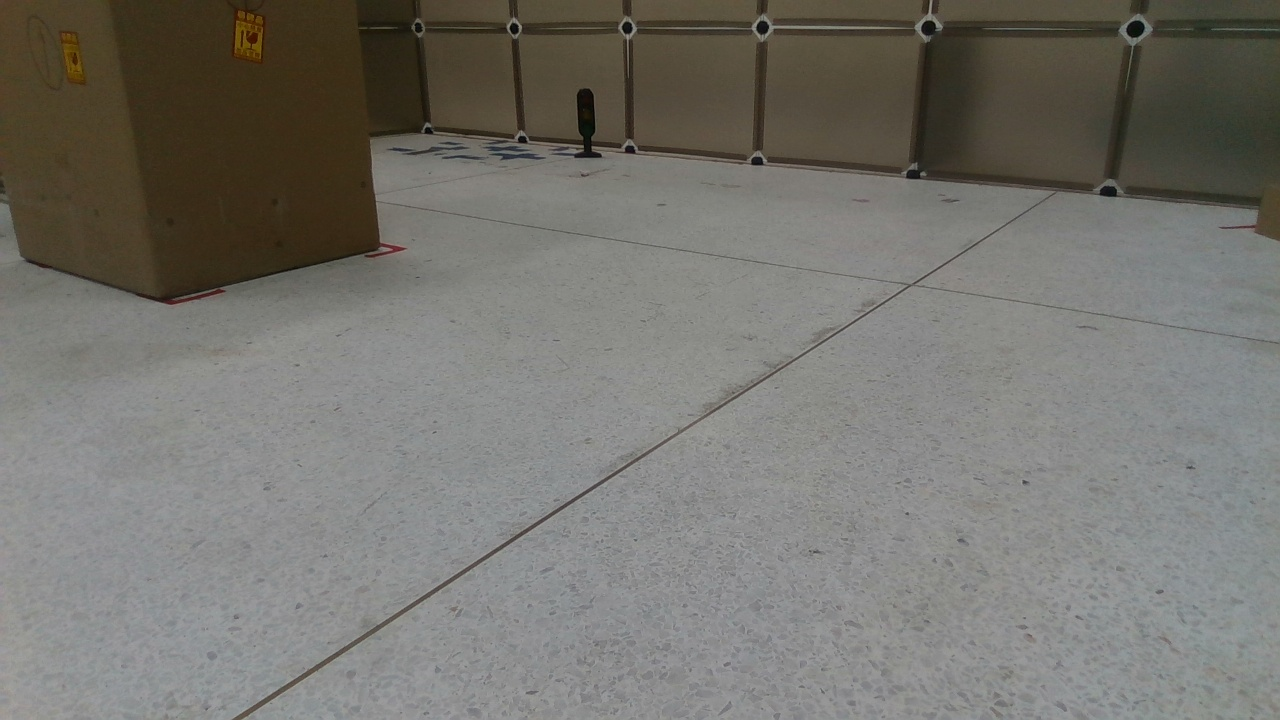Dim traffic light: (571, 90, 607, 160)
